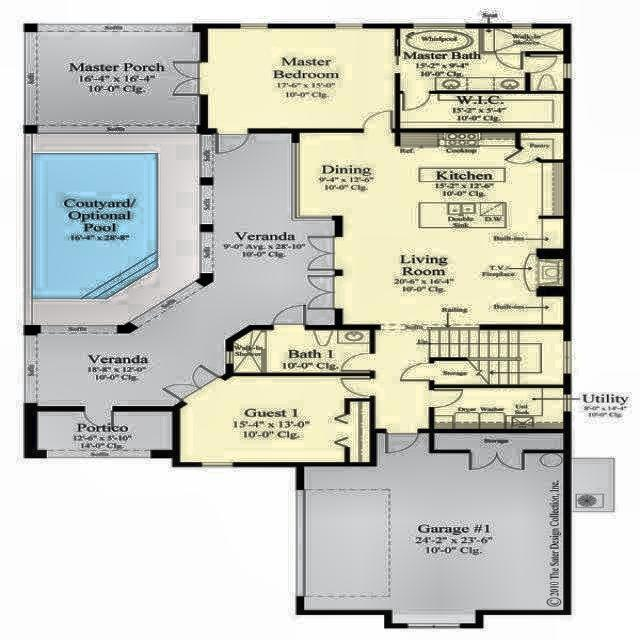room: (0, 103, 375, 458), (298, 127, 565, 431), (304, 433, 563, 624), (208, 28, 396, 129), (178, 376, 370, 462), (36, 31, 200, 125), (400, 28, 563, 91), (233, 330, 370, 373), (400, 93, 563, 129), (433, 388, 564, 429), (37, 411, 172, 450), (434, 433, 563, 450), (434, 360, 486, 384), (530, 54, 563, 91), (520, 132, 563, 159)
